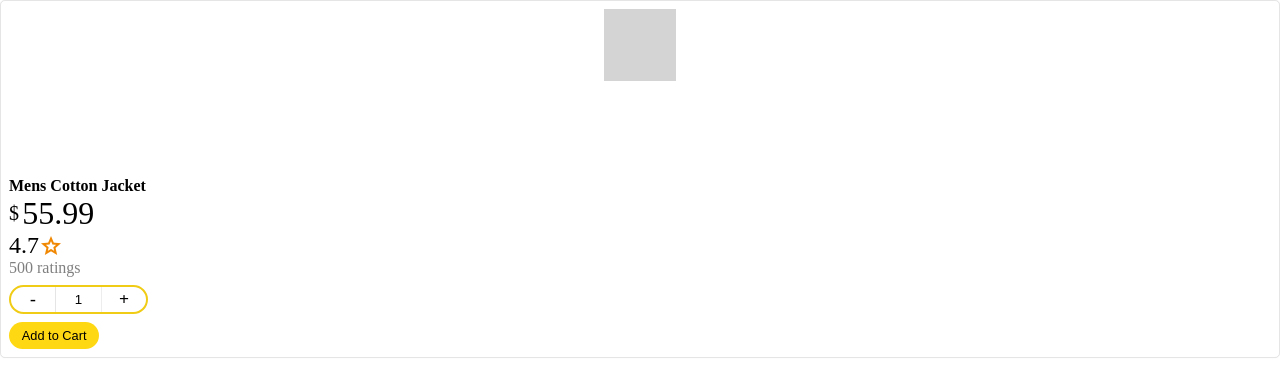
it: Cart controls › increments the quantity by one
Click the button "+": (124, 299) 102,287 -> 146,312
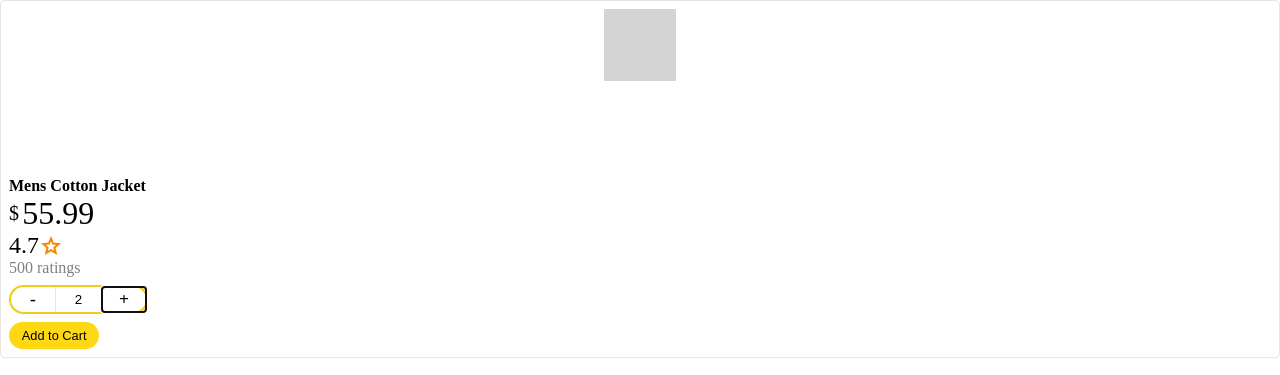
Expected: the number field named "Number of Items" holds "2", 55,287 -> 102,312
